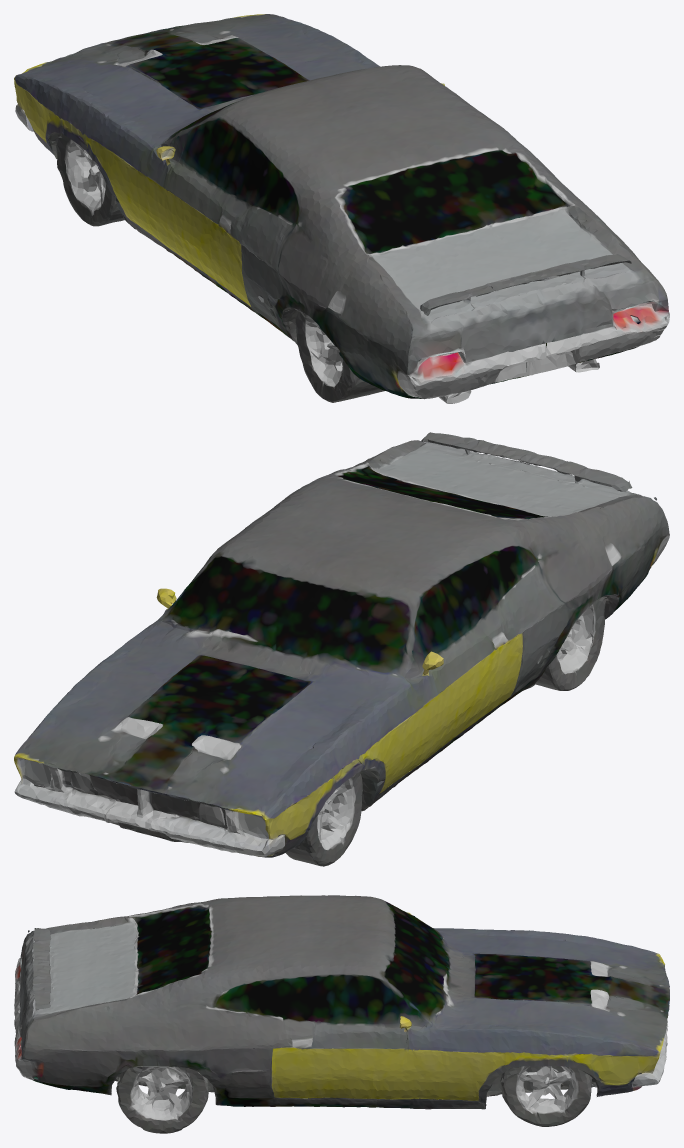
3 views of the same model, one above another, from view 1: azimuth 30°, elevation 25°; view 2: azimuth 150°, elevation 25°; view 3: azimuth 270°, elevation 25° (orthographic). The views are drawn at different scales.
Parts seen in each view (by area): view 1: defaultobject; view 2: defaultobject; view 3: defaultobject.
Part boxes in pixels (left/top/right/bottom): defaultobject: left=14, top=14, right=669, bottom=403; defaultobject: left=14, top=432, right=669, bottom=866; defaultobject: left=14, top=895, right=669, bottom=1133.
Bounding box in the file's own units: 0.389 × 0.2447 × 0.9516.
